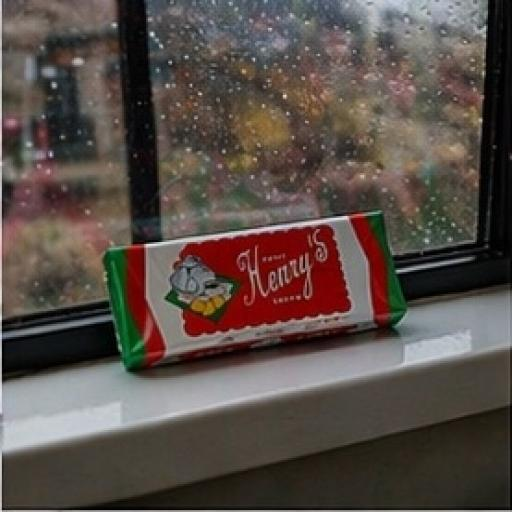henry-s: (95, 221, 444, 387)
